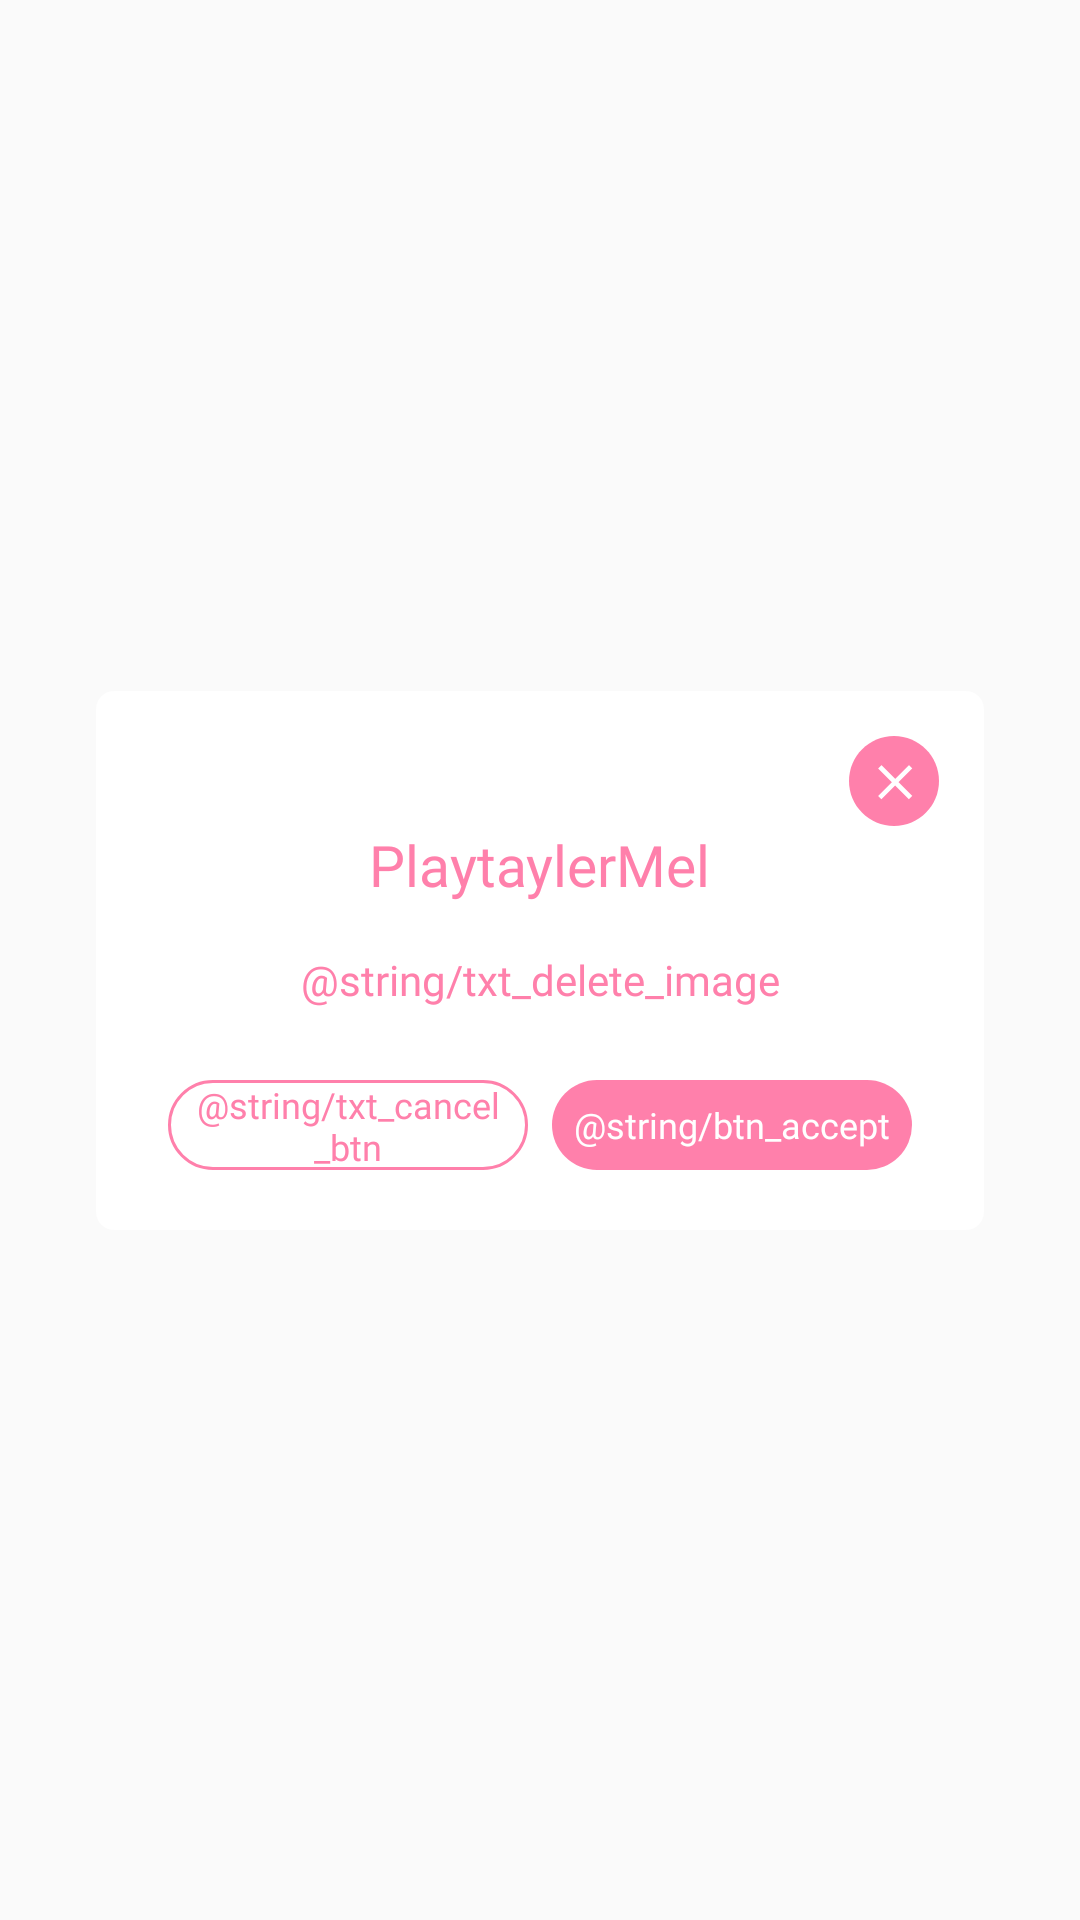

Named icons in this screenshot (1080w x 1920h) and their bounding boxes, [x1=x1, y1=y1, x2=x2, y2=y2]:
close two: [x1=849, y1=736, x2=939, y2=826]
